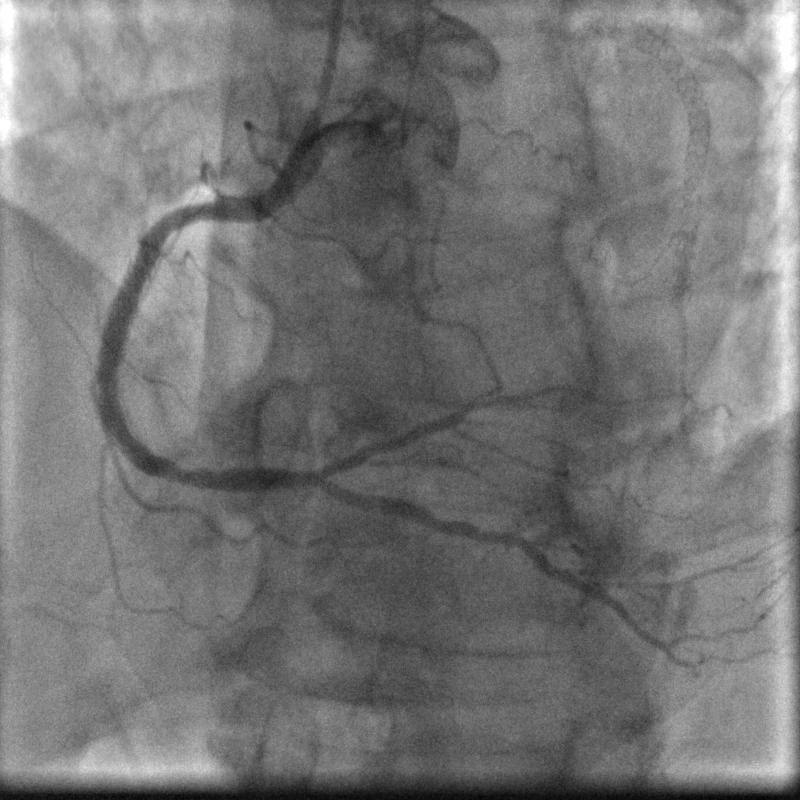Stenosis: (171, 195, 212, 229)
